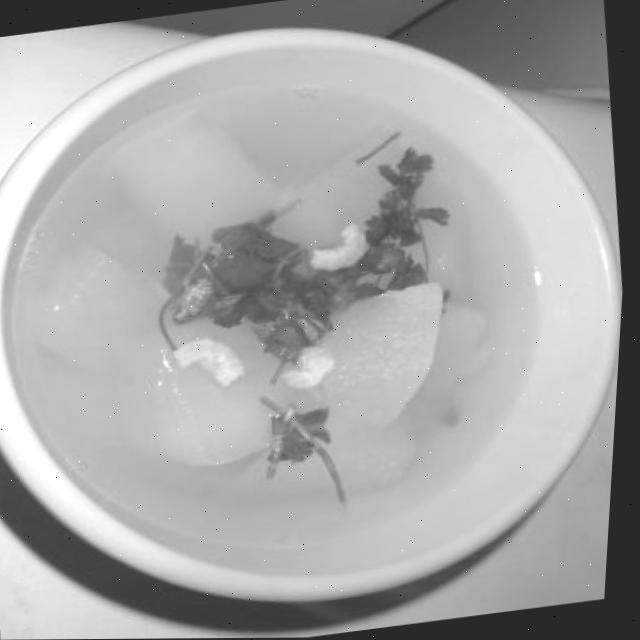汤锅炖物: (0, 19, 639, 630)
